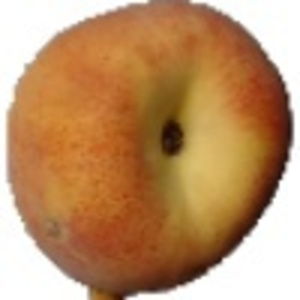pêssego: (4, 1, 295, 300)
